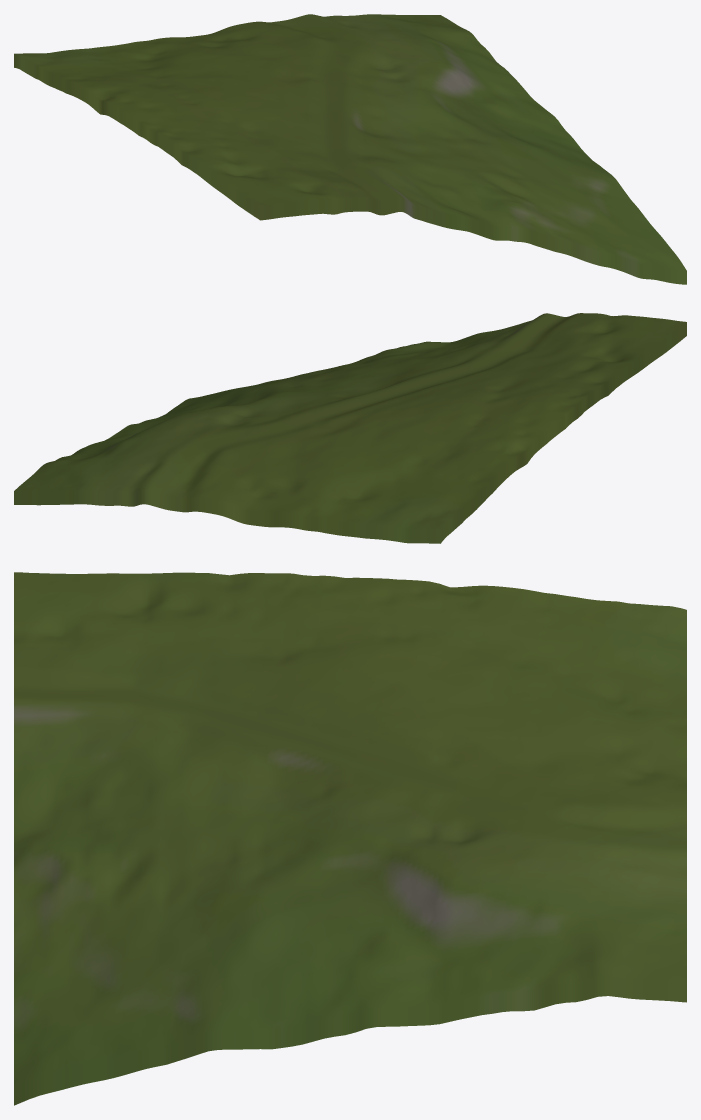
The model's file is terrain_4_-7.glb.
3 views of the same model, one above another, from view 1: azimuth 30°, elevation 25°; view 2: azimuth 150°, elevation 25°; view 3: azimuth 270°, elevation 25° (orthographic). The views are drawn at different scales.
Parts seen in each view (by area): view 1: terrain_4_-7; view 2: terrain_4_-7; view 3: terrain_4_-7.
Part boxes in pixels (x1,y1,x2,y2): terrain_4_-7: (14, 14, 686, 284); terrain_4_-7: (14, 313, 686, 543); terrain_4_-7: (14, 572, 686, 1105).
Size of the model in its own units: 256 by 105 by 256.
